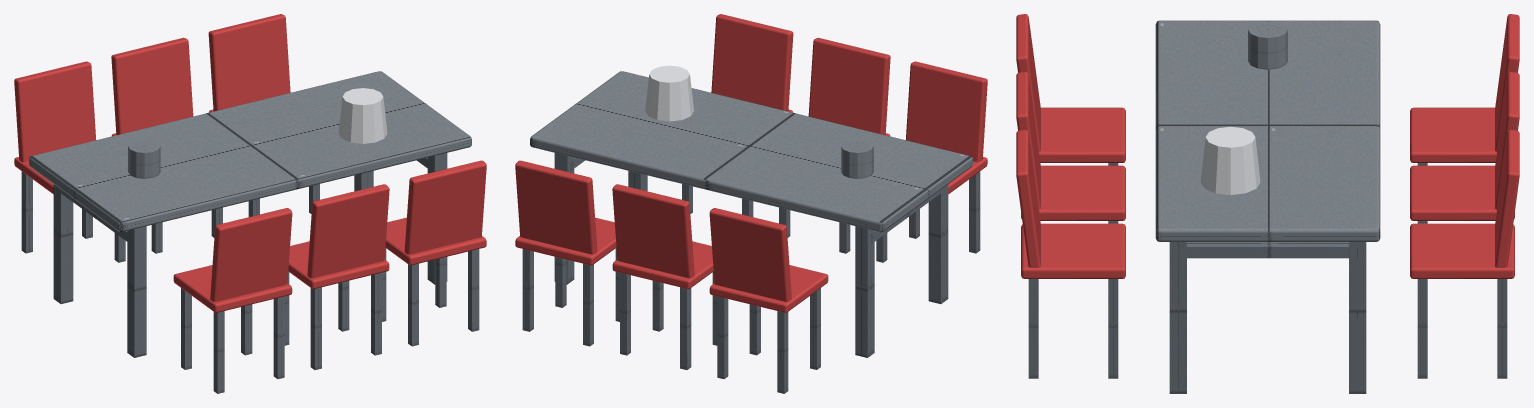
Rendered from fire-and-emergency-services-mess-table-and-chairs-8a49bbf6__29893.glb.
The picture shows the model from 3 angles, left to right: view 1: azimuth 30°, elevation 25°; view 2: azimuth 150°, elevation 25°; view 3: azimuth 270°, elevation 25°; orthographic projection. The views are drawn at different scales.
Visible parts, largest first — view 1: mess-table-and-chairs; view 2: mess-table-and-chairs; view 3: mess-table-and-chairs.
Part boxes in pixels (box(x1,y1,x2,y2)): mess-table-and-chairs: box(14, 14, 486, 393); mess-table-and-chairs: box(515, 14, 987, 393); mess-table-and-chairs: box(1016, 14, 1519, 393).
Bounding box in the file's own units: 2 × 0.98 × 2.02.
4 materials, 2 textured.
